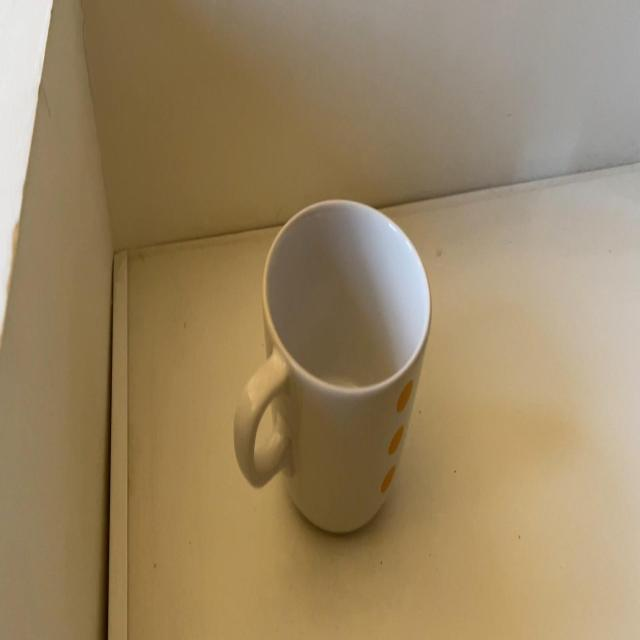cup: (232, 198, 432, 536)
